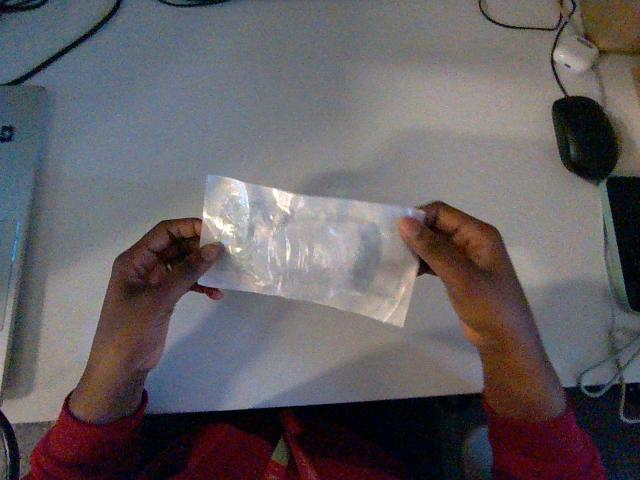gallipot: (199, 176, 423, 325)
